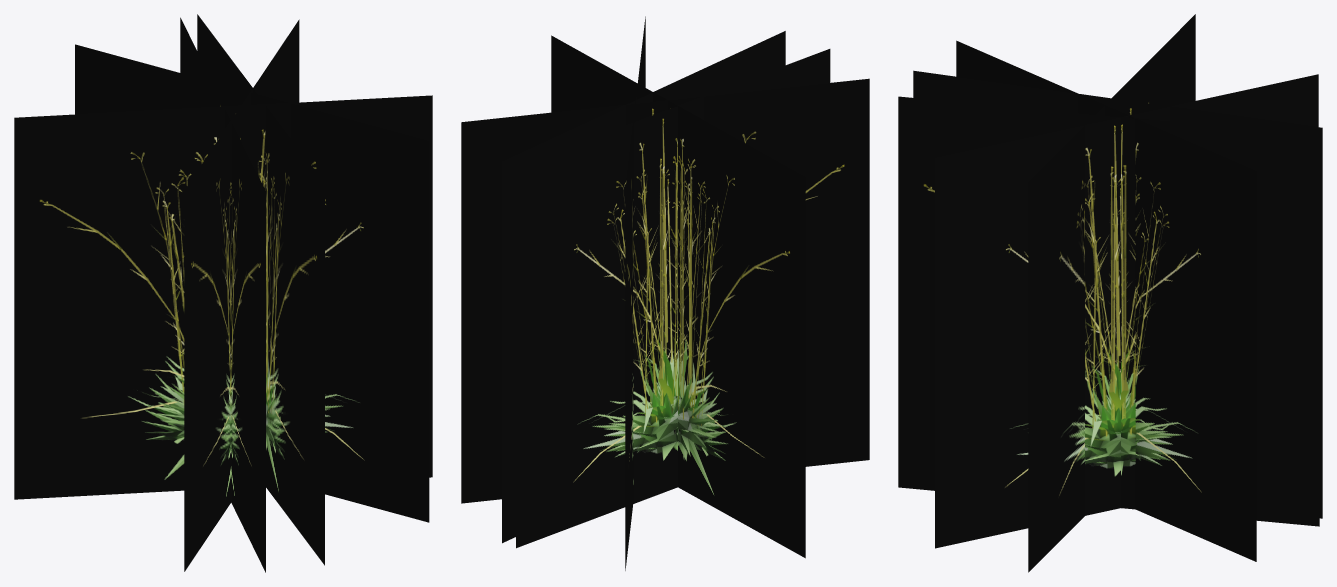
File: caoatgrasstest.glb
3 renders of one model, left to right at view 1: azimuth 30°, elevation 25°; view 2: azimuth 150°, elevation 25°; view 3: azimuth 270°, elevation 25°, orthographic. The views are drawn at different scales.
Visible parts, largest first — view 1: caoastgrass2d1.001; view 2: caoastgrass2d1.001; view 3: caoastgrass2d1.001.
Boxes of the visible parts, box(x1,y1,x2,y2) form: caoastgrass2d1.001: box(14, 14, 432, 572); caoastgrass2d1.001: box(461, 16, 869, 570); caoastgrass2d1.001: box(898, 14, 1322, 572).
Bounding box in the file's own units: 1.74 × 1.89 × 1.86.
Materials: 1 (1 with a texture image).
